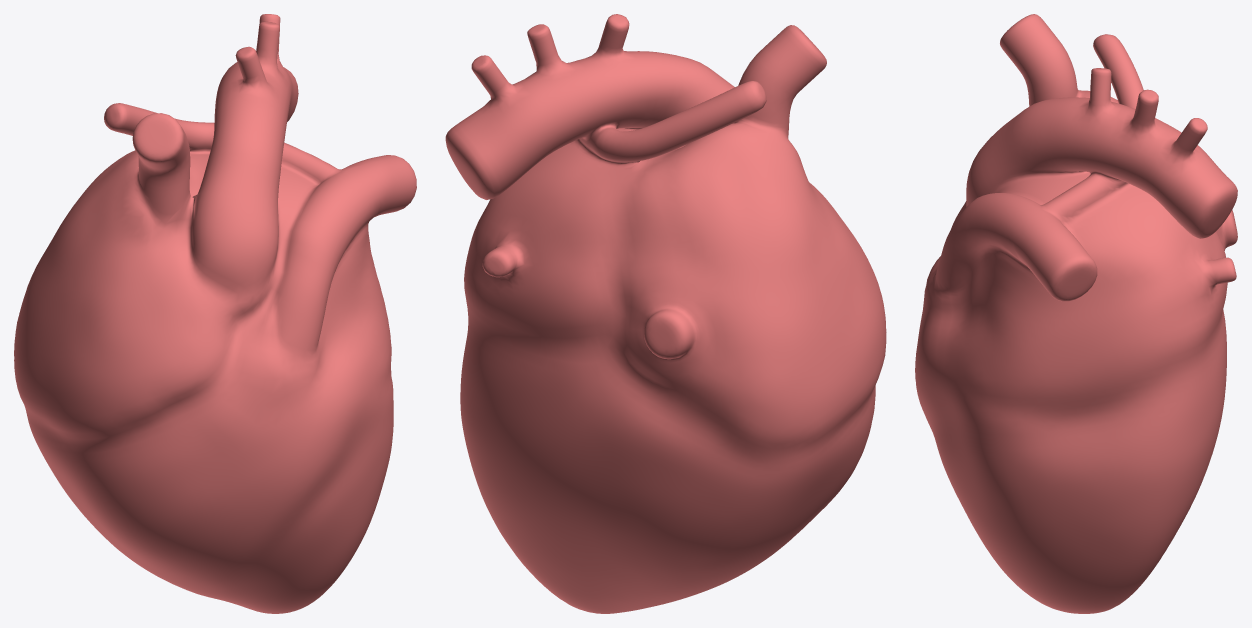
Rendered from optimized_heart.glb.
The picture shows the model from 3 angles, left to right: view 1: azimuth 30°, elevation 25°; view 2: azimuth 150°, elevation 25°; view 3: azimuth 270°, elevation 25°; orthographic projection. The views are drawn at different scales.
Parts seen in each view (by area): view 1: hart:ZBrush_defualt_group; view 2: hart:ZBrush_defualt_group; view 3: hart:ZBrush_defualt_group.
Boxes of the visible parts, <box> form: hart:ZBrush_defualt_group: <box>14,14,416,613</box>; hart:ZBrush_defualt_group: <box>445,14,886,613</box>; hart:ZBrush_defualt_group: <box>915,14,1237,613</box>.
Bounding box in the file's own units: 1.08 × 1.6 × 0.8801.
